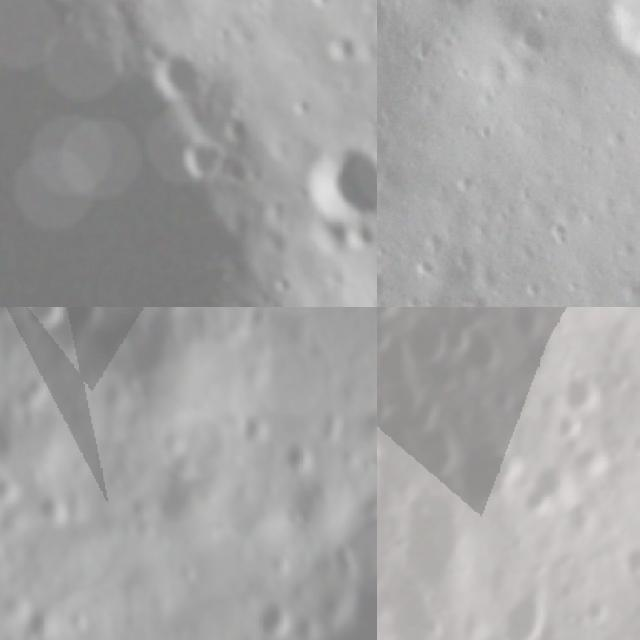crater: (392, 487, 472, 587), (448, 431, 527, 500), (312, 151, 377, 222), (515, 466, 580, 526), (387, 568, 439, 640), (408, 421, 467, 477), (597, 0, 640, 74), (496, 584, 550, 640), (253, 581, 296, 640), (401, 314, 446, 370), (151, 57, 220, 91), (460, 326, 504, 378), (561, 368, 606, 414), (179, 136, 225, 180), (513, 15, 550, 63), (24, 600, 67, 640), (578, 588, 615, 633), (279, 434, 325, 470), (544, 408, 583, 448), (61, 307, 105, 336), (18, 307, 62, 335), (398, 0, 487, 12), (339, 228, 377, 256), (377, 263, 400, 307), (616, 543, 640, 583), (240, 307, 271, 335), (377, 319, 396, 362), (377, 0, 393, 47), (377, 387, 387, 433)
